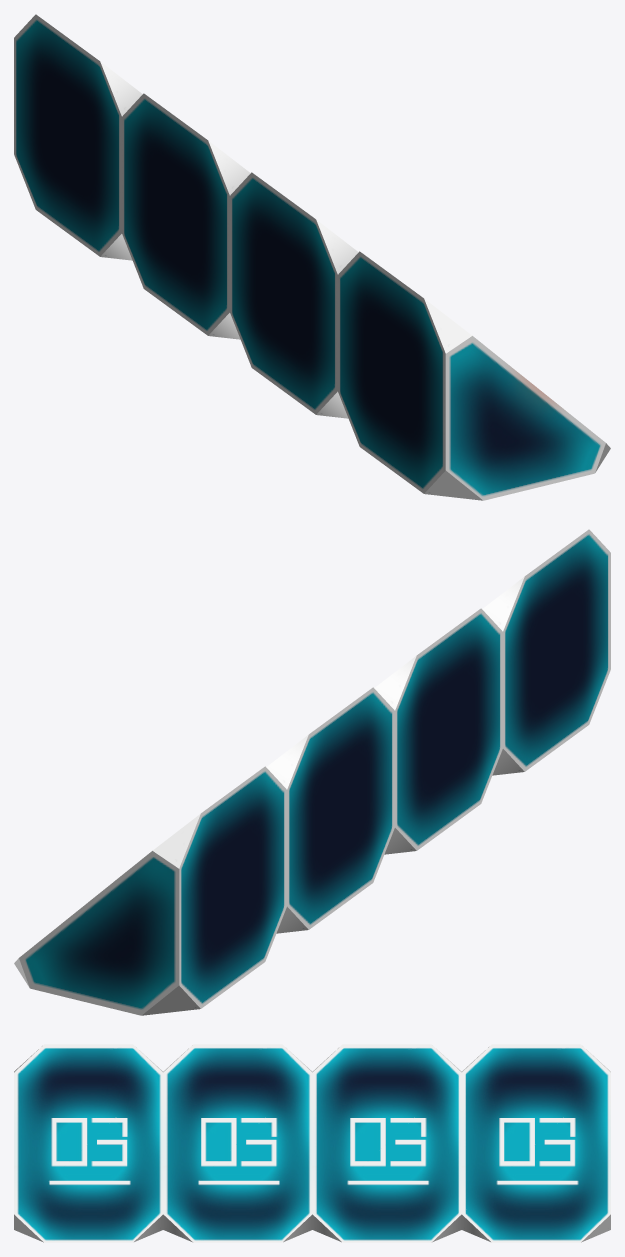
The model's file is MG-ChJ-CS-03FangPo-4.FBX.
The picture shows the model from 3 angles, top to bottom: view 1: azimuth 30°, elevation 25°; view 2: azimuth 150°, elevation 25°; view 3: azimuth 270°, elevation 25°; orthographic projection. The views are drawn at different scales.
Parts seen in each view (by area): view 1: MG-ChJ-CS-03FangPo-4; view 2: MG-ChJ-CS-03FangPo-4; view 3: MG-ChJ-CS-03FangPo-4.
Boxes of the visible parts, <box> form: MG-ChJ-CS-03FangPo-4: <box>14,14,610,500</box>; MG-ChJ-CS-03FangPo-4: <box>14,529,610,1015</box>; MG-ChJ-CS-03FangPo-4: <box>14,1044,610,1242</box>.
Bounding box in the file's own units: 39.37 × 39.37 × 157.
